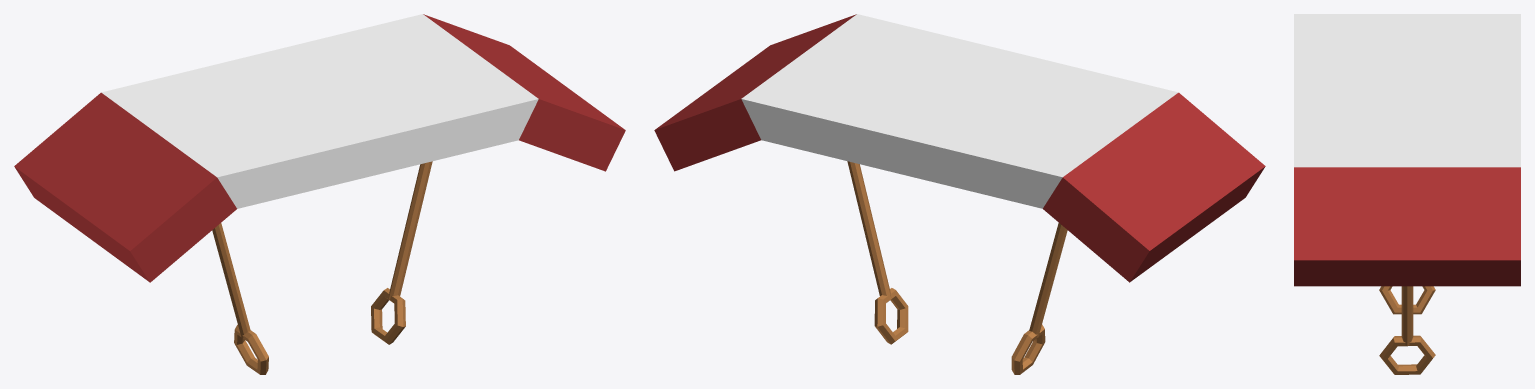
File: Glider.fbx
The picture shows the model from 3 angles, left to right: view 1: azimuth 30°, elevation 25°; view 2: azimuth 150°, elevation 25°; view 3: azimuth 270°, elevation 25°; orthographic projection. The views are drawn at different scales.
Visible parts, largest first — view 1: Parachute, RopeRight, RopeLeft, HandleRight, HandleLeft; view 2: Parachute, RopeRight, RopeLeft, HandleRight, HandleLeft; view 3: Parachute, HandleRight, RopeRight, HandleLeft.
Part boxes in pixels (x1=…): Parachute: x1=14, y1=14, x2=625, y2=282; RopeRight: x1=388, y1=161, x2=432, y2=299; RopeLeft: x1=212, y1=223, x2=250, y2=337; HandleRight: x1=371, y1=288, x2=405, y2=344; HandleLeft: x1=234, y1=324, x2=268, y2=374; Parachute: x1=654, y1=14, x2=1265, y2=282; RopeRight: x1=847, y1=161, x2=891, y2=299; RopeLeft: x1=1029, y1=223, x2=1067, y2=337; HandleRight: x1=874, y1=288, x2=908, y2=344; HandleLeft: x1=1011, y1=324, x2=1045, y2=374; Parachute: x1=1294, y1=14, x2=1520, y2=286; HandleRight: x1=1379, y1=335, x2=1435, y2=374; RopeRight: x1=1401, y1=286, x2=1413, y2=345; HandleLeft: x1=1379, y1=286, x2=1435, y2=314.
Bounding box in the file's own units: 493 × 246 × 200.
